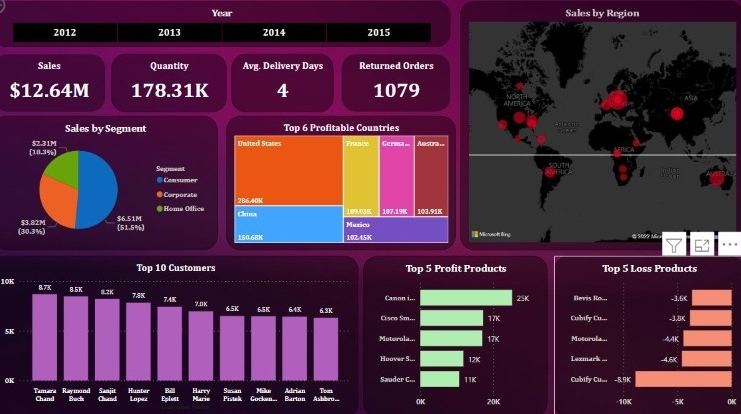

This screenshot's page, from the dashboard's own definition file:
{"tool":"powerbi","page":{"name":"BigMart Sales Report","canvas":[1280,720],"ordinal":0},"visuals":[{"type":"card","title":"Sales","fields":{"Values":["Orders.Sales"]},"box":[13.3,101.7,188.3,96.7],"z":0},{"type":"card","title":"Quantity","fields":{"Values":["Orders.Quantity"]},"box":[211.7,101.7,191.7,96.7],"z":1000},{"type":"card","title":"Avg. Delivery Days","fields":{"Values":["Orders.Delivery Days"]},"box":[411.7,101.7,170,96.7],"z":2000},{"type":"slicer","title":"Year","fields":{"Values":["Orders.Year"]},"box":[13.3,13.3,763.3,76.7],"z":2001},{"type":"card","title":"Returned Orders","fields":{"Values":["Returns.Returned Orders"]},"box":[595,101.7,181.7,96.7],"z":2002},{"type":"map","fields":{"Category":["Orders.Region"],"Size":["Orders.Sales"]},"box":[793.3,13.3,471.7,415],"z":2003},{"type":"clusteredBarChart","title":"Top 5 Profit Products","fields":{"Category":["Orders.Product Name"],"Y":["Orders.Profit"]},"box":[631.7,438.3,306.7,268.3],"z":2004},{"type":"clusteredBarChart","title":"Top 5 Loss Products","fields":{"Category":["Orders.Product Name"],"Y":["Orders.Profit"]},"box":[950,438.3,315,268.3],"z":2005},{"type":"pieChart","fields":{"Category":["Orders.Segment"],"Y":["Orders.Sales"]},"box":[13.3,205,375,223.3],"z":2006},{"type":"treemap","title":"Top 6 Profitable Countries","fields":{"Details":["Orders.Country"],"Values":["Orders.Profit"]},"box":[403.3,205,381.7,223.3],"z":2007},{"type":"actionButton","box":[0,0,100,40],"z":2008},{"type":"columnChart","title":"Top 10  Customers","fields":{"Category":["Orders.Customer Name"],"Y":["Orders.Profit"]},"box":[13.3,438.3,610,268.3],"z":2009}]}

Visuals, with their boxes in screenshot pixels (x1, y1, x2, y2), scaled from the page's 1280x720 canvas onto the 741x414 screenshot:
"Sales" card: l=8, t=58, r=117, b=114
"Quantity" card: l=123, t=58, r=234, b=114
"Avg. Delivery Days" card: l=238, t=58, r=337, b=114
"Year" slicer: l=8, t=8, r=450, b=52
"Returned Orders" card: l=344, t=58, r=450, b=114
map - Orders.Region x Orders.Sales: l=459, t=8, r=732, b=246
"Top 5 Profit Products" clusteredBarChart: l=366, t=252, r=543, b=406
"Top 5 Loss Products" clusteredBarChart: l=550, t=252, r=732, b=406
pieChart - Orders.Segment x Orders.Sales: l=8, t=118, r=225, b=246
"Top 6 Profitable Countries" treemap: l=233, t=118, r=454, b=246
actionButton: l=0, t=0, r=58, b=23
"Top 10  Customers" columnChart: l=8, t=252, r=361, b=406
